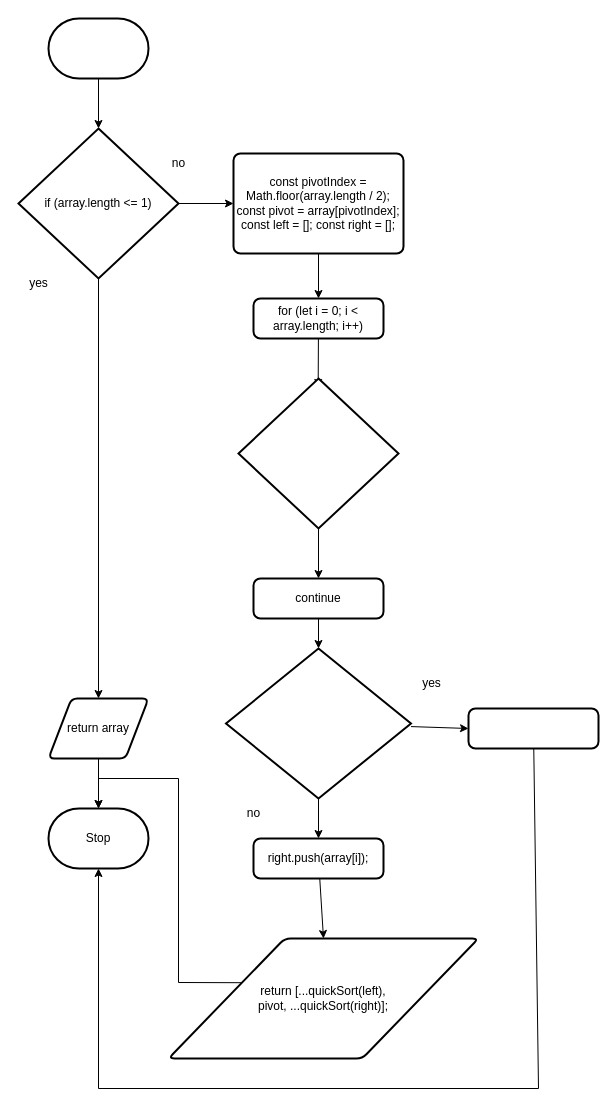
Some shapes in this 616 by 1114 pixel diagram are drawn without their labels. The shapes that lost their labels are listed below. From the top down, each one's centre as x and y in pixels, then its label:
At [98,48]: "Start".
At [318,453]: "if (i === pivotIndex)".
At [318,723]: "if (array[i] < pivot)".
At [533,728]: "left.push(array[i]);".
